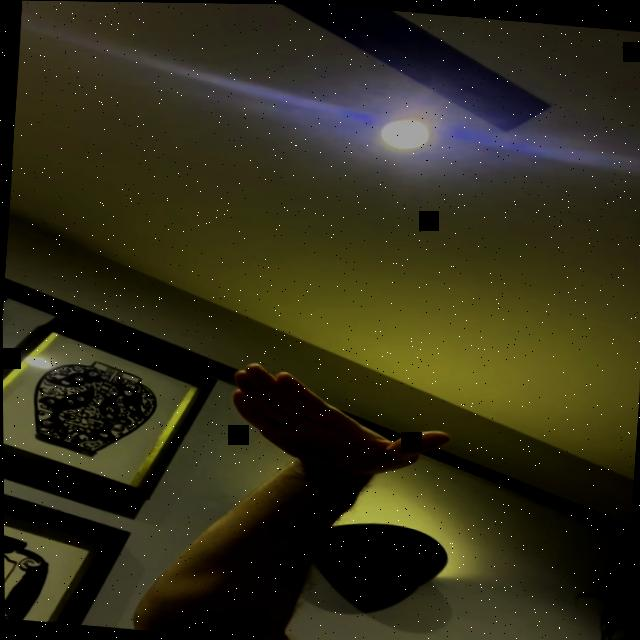Paper: (220, 358, 454, 483)
